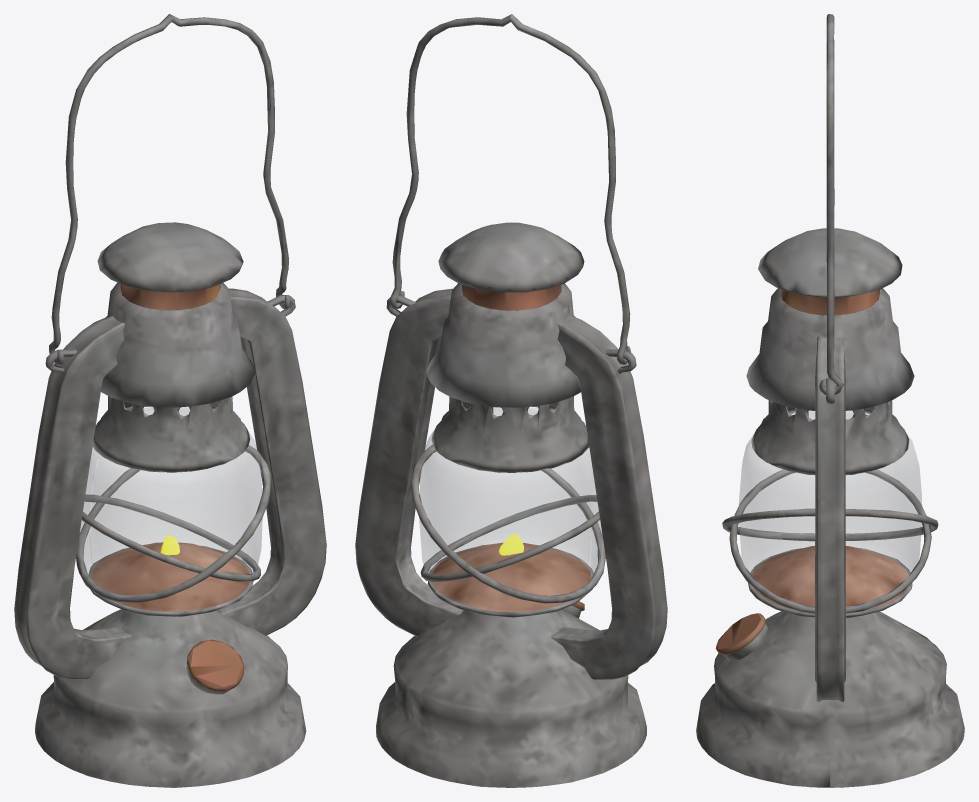
The model's file is obj_miners_oil_lamp.glb.
The picture shows the model from 3 angles, left to right: view 1: azimuth 30°, elevation 25°; view 2: azimuth 150°, elevation 25°; view 3: azimuth 270°, elevation 25°; orthographic projection.
Parts seen in each view (by area): view 1: Object_2; view 2: Object_2; view 3: Object_2.
Part boxes in pixels (bbox=[...]): Object_2: bbox=[14, 14, 326, 787]; Object_2: bbox=[355, 14, 667, 787]; Object_2: bbox=[696, 14, 964, 787].
Size of the model in its own units: 0.1404 by 0.3201 by 0.1099.
Materials: 3 (2 with a texture image).
